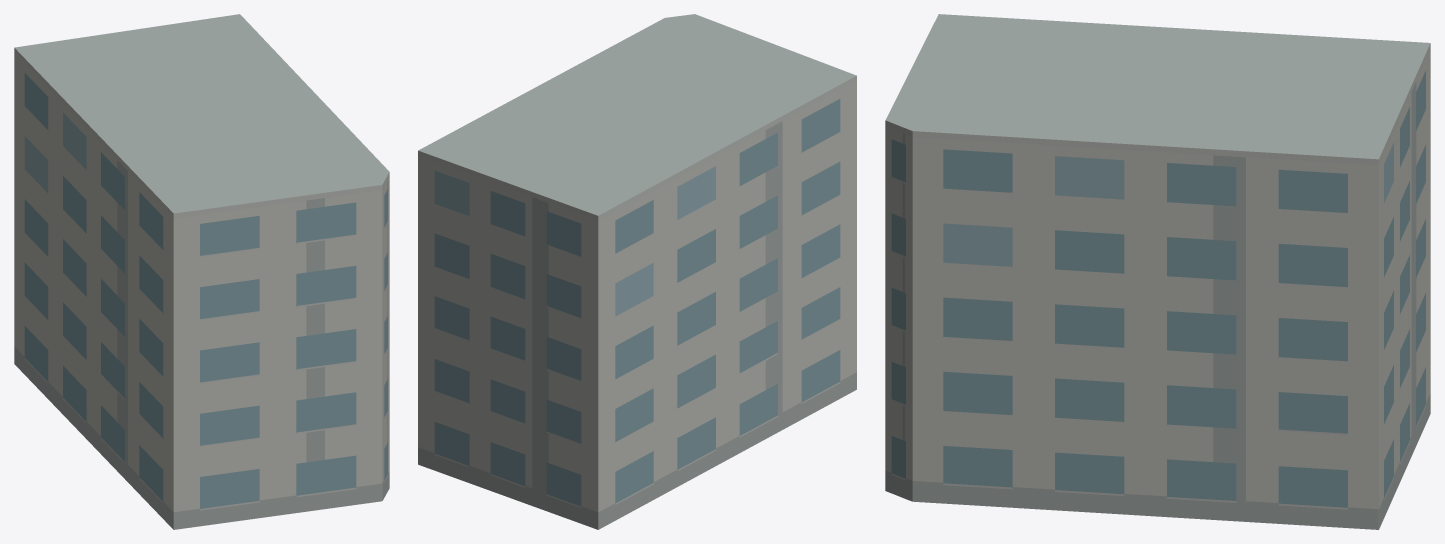
File: survey-upis-32799462.glb
3 views of the same model, side by side, from view 1: azimuth 30°, elevation 25°; view 2: azimuth 150°, elevation 25°; view 3: azimuth 270°, elevation 25° (orthographic). The views are drawn at different scales.
Parts seen in each view (by area): view 1: survey-upis-32799462.tmp; view 2: survey-upis-32799462.tmp; view 3: survey-upis-32799462.tmp.
Boxes of the visible parts, bbox=[...] form: survey-upis-32799462.tmp: bbox=[14, 14, 389, 529]; survey-upis-32799462.tmp: bbox=[418, 14, 856, 529]; survey-upis-32799462.tmp: bbox=[885, 14, 1430, 529].
Bounding box in the file's own units: 12.5 × 14.85 × 19.81.
